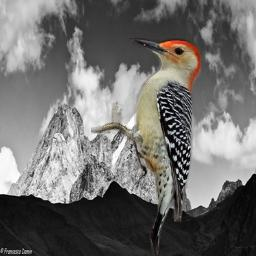Woodpecker: (91, 38, 201, 255)
